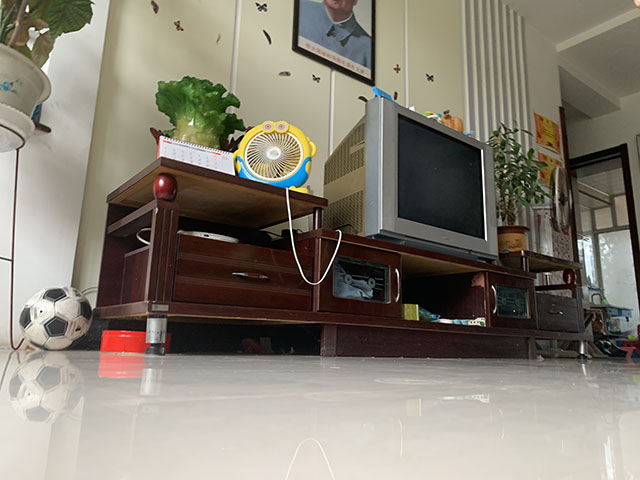cabinet: (92, 155, 593, 360)
